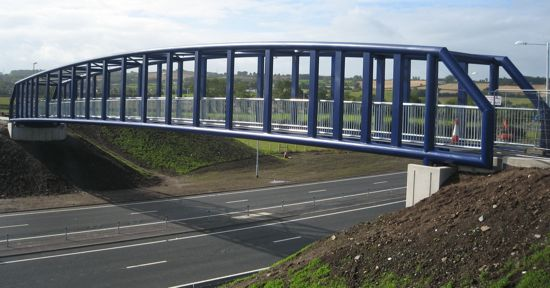bridge: (8, 42, 548, 170)
